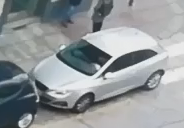Car: (24, 21, 173, 117)
